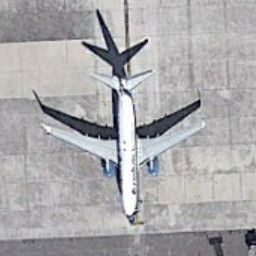Airplane: (31, 61, 212, 235)
